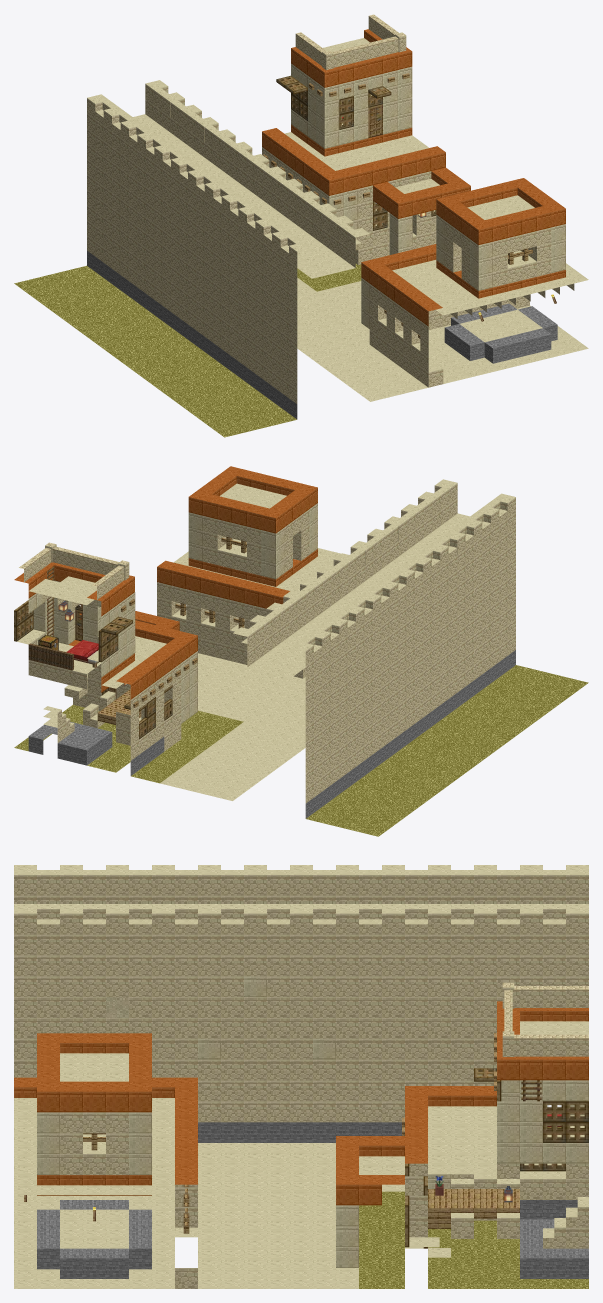
The model's file is chunk-100-50-lvl-1-transformed.glb.
3 renders of one model, top to bottom at view 1: azimuth 30°, elevation 25°; view 2: azimuth 150°, elevation 25°; view 3: azimuth 270°, elevation 25°, orthographic. The views are drawn at different scales.
Parts seen in each view (by area): view 1: Sandstone, Cut_Red_Sandstone, Grass_Block, Cut_Sandstone, Sandstone_Slab, Stone, Sandstone_Stairs, Sandstone_Wall, Oak_Trapdoor, Oak_Button; view 2: Sandstone, Grass_Block, Cut_Red_Sandstone, Cut_Sandstone, Sandstone_Stairs, Stone, Sandstone_Slab, Sandstone_Wall, Oak_Trapdoor, Spruce_Trapdoor, Oak_Slab, Fence (+1 smaller); view 3: Sandstone, Cut_Red_Sandstone, Sandstone_Stairs, Sandstone_Slab, Stone, Cut_Sandstone, Grass_Block, Sandstone_Wall, Oak_Trapdoor, Oak_Slab, Oak_Planks.
Boxes of the visible parts, x1,y1,x2,y2 form: Sandstone: (87, 80, 588, 403); Cut_Red_Sandstone: (262, 29, 565, 326); Grass_Block: (14, 263, 361, 437); Cut_Sandstone: (291, 63, 565, 328); Sandstone_Slab: (284, 38, 588, 318); Stone: (87, 203, 557, 419); Sandstone_Stairs: (95, 88, 376, 260); Sandstone_Wall: (295, 14, 406, 70); Oak_Trapdoor: (276, 75, 436, 230); Oak_Button: (263, 73, 409, 204); Sandstone: (28, 479, 515, 803); Grass_Block: (14, 665, 588, 836); Cut_Red_Sandstone: (14, 466, 317, 699); Cut_Sandstone: (17, 503, 317, 723); Sandstone_Stairs: (43, 487, 507, 736); Stone: (28, 623, 515, 818); Sandstone_Slab: (29, 483, 340, 689); Sandstone_Wall: (19, 542, 129, 599); Oak_Trapdoor: (14, 600, 172, 739); Spruce_Trapdoor: (28, 643, 73, 670); Oak_Slab: (97, 694, 141, 724); Fence: (175, 535, 246, 628); Sandstone: (14, 865, 588, 1288); Cut_Red_Sandstone: (14, 1001, 588, 1205); Sandstone_Stairs: (37, 870, 588, 1257); Sandstone_Slab: (14, 1021, 588, 1194); Stone: (37, 1122, 588, 1278); Cut_Sandstone: (37, 976, 588, 1267); Grass_Block: (359, 1191, 588, 1288); Sandstone_Wall: (502, 982, 588, 1056); Oak_Trapdoor: (405, 1068, 588, 1247); Oak_Slab: (451, 1189, 519, 1218); Oak_Planks: (428, 1189, 450, 1228).
Size of the model in its own units: 25.12 by 12 by 25.
Materials: 30 (30 with a texture image).
